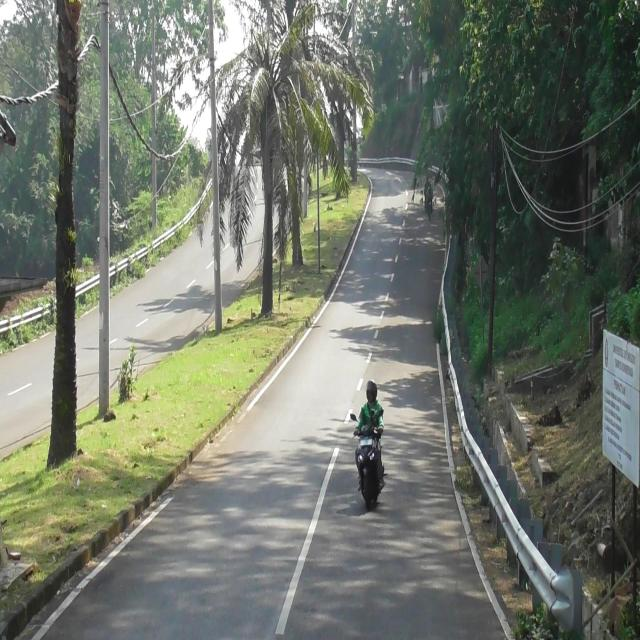motorcycle: (350, 412, 386, 509)
person: (353, 379, 384, 433)
rider_region: (352, 382, 385, 516)
